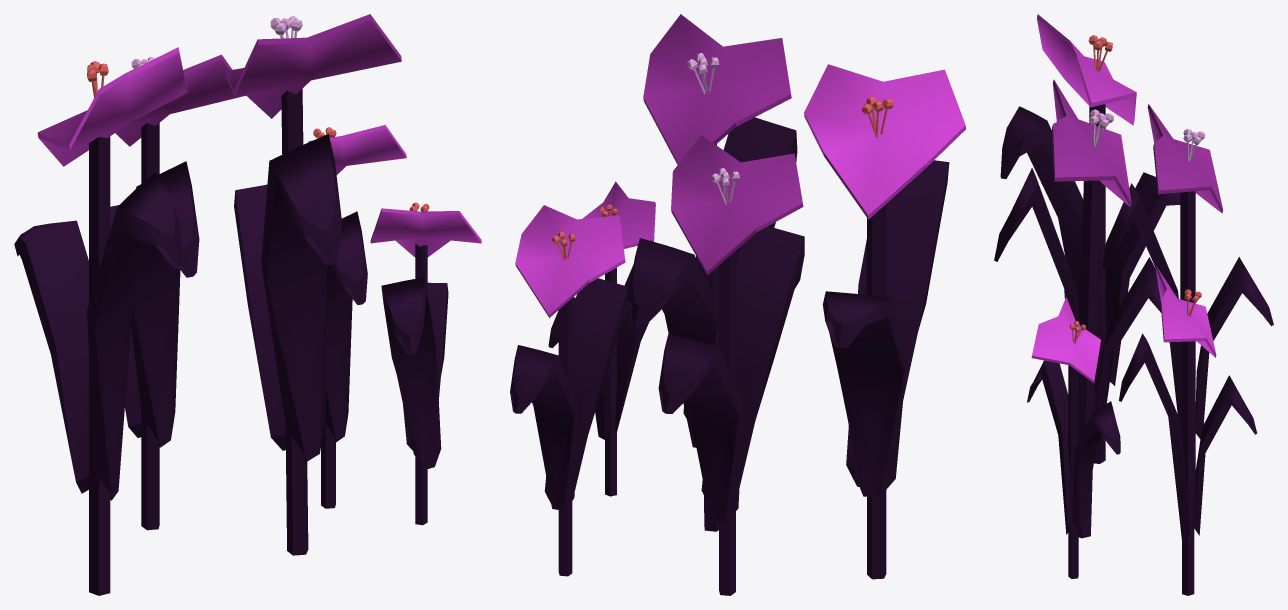
File: Flowers2.fbx
3 renders of one model, left to right at view 1: azimuth 30°, elevation 25°; view 2: azimuth 150°, elevation 25°; view 3: azimuth 270°, elevation 25°, orthographic. The views are drawn at different scales.
Visible parts, largest first — view 1: polySurface23, pCylinder6, polySurface7, polySurface8, polySurface28, polySurface73, polySurface20, polySurface61, polySurface19, polySurface22, polySurface29, polySurface62 (+4 smaller); view 2: pCylinder6, polySurface20, polySurface28, polySurface8, polySurface7, polySurface50, polySurface22, polySurface60, polySurface61, polySurface19, polySurface23, polySurface62 (+5 smaller); view 3: pCylinder6, polySurface7, polySurface28, polySurface20, polySurface8, polySurface29, polySurface23, polySurface62, polySurface22, polySurface61, polySurface51, polySurface72 (+5 smaller).
Boxes of the visible parts, bbox=[...] form: polySurface23: bbox=[261, 134, 341, 461]; pCylinder6: bbox=[110, 54, 245, 530]; polySurface7: bbox=[87, 172, 182, 500]; polySurface8: bbox=[14, 220, 88, 493]; polySurface28: bbox=[225, 14, 401, 118]; polySurface73: bbox=[381, 277, 441, 469]; polySurface20: bbox=[37, 47, 187, 166]; polySurface61: bbox=[324, 211, 367, 442]; polySurface19: bbox=[89, 136, 110, 595]; polySurface22: bbox=[234, 184, 285, 450]; polySurface29: bbox=[281, 89, 308, 555]; polySurface62: bbox=[370, 208, 481, 257]; pCylinder6: bbox=[658, 135, 804, 595]; polySurface20: bbox=[804, 64, 965, 219]; polySurface28: bbox=[643, 14, 791, 164]; polySurface8: bbox=[822, 291, 906, 496]; polySurface7: bbox=[846, 160, 949, 486]; polySurface50: bbox=[515, 205, 625, 317]; polySurface22: bbox=[627, 238, 718, 447]; polySurface60: bbox=[510, 345, 578, 510]; polySurface61: bbox=[544, 278, 627, 502]; polySurface19: bbox=[867, 204, 886, 579]; polySurface23: bbox=[683, 117, 797, 418]; polySurface62: bbox=[582, 181, 655, 248]; pCylinder6: bbox=[1102, 104, 1273, 493]; polySurface7: bbox=[1000, 106, 1104, 391]; polySurface28: bbox=[1052, 79, 1131, 206]; polySurface20: bbox=[1037, 14, 1136, 125]; polySurface8: bbox=[1105, 172, 1180, 385]; polySurface29: bbox=[1078, 180, 1100, 538]; polySurface23: bbox=[994, 168, 1085, 442]; polySurface62: bbox=[1031, 297, 1100, 382]; polySurface22: bbox=[1094, 257, 1161, 463]; polySurface61: bbox=[1119, 333, 1190, 544]; polySurface51: bbox=[1182, 341, 1194, 595]; polySurface72: bbox=[1072, 401, 1120, 530].
Bounding box in the file's own units: 2.66 × 3.46 × 1.94.
